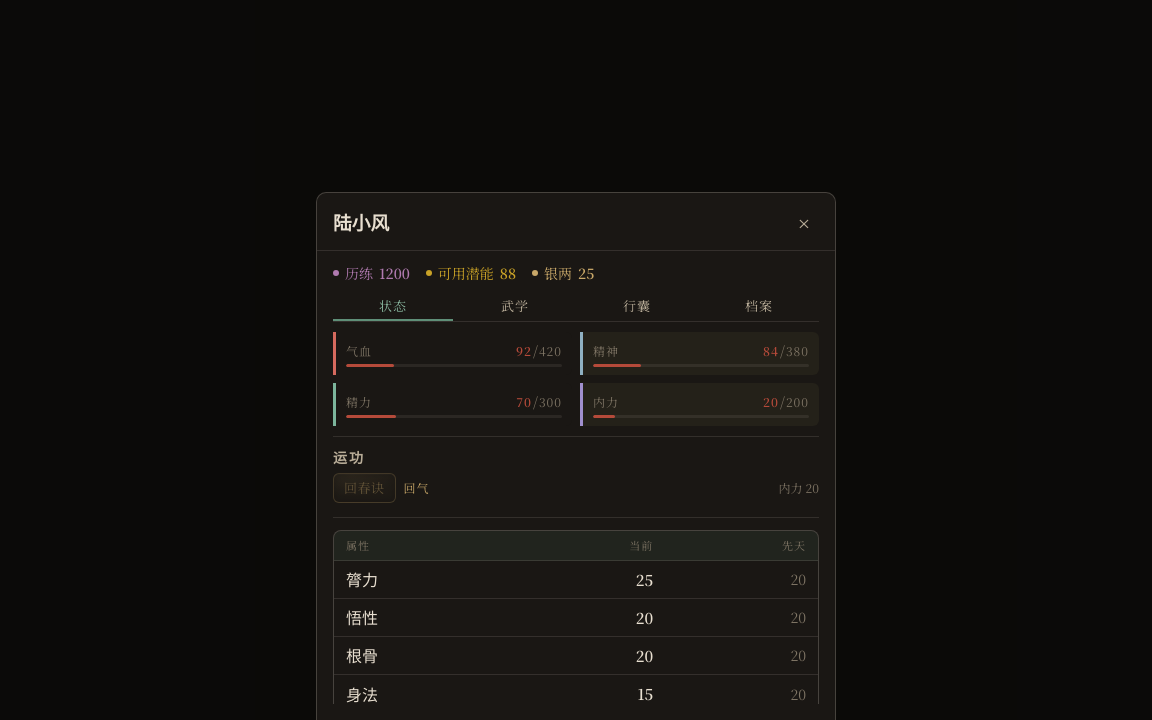
Test: CharacterSheet（角色面板） › 武学页：临敌有效等级 + 折叠不见演练点/招式清单
This screenshot has width=1152, height=720.
Click the tab "武学" at (515, 307), box x1=455 y1=293 x2=575 y2=321
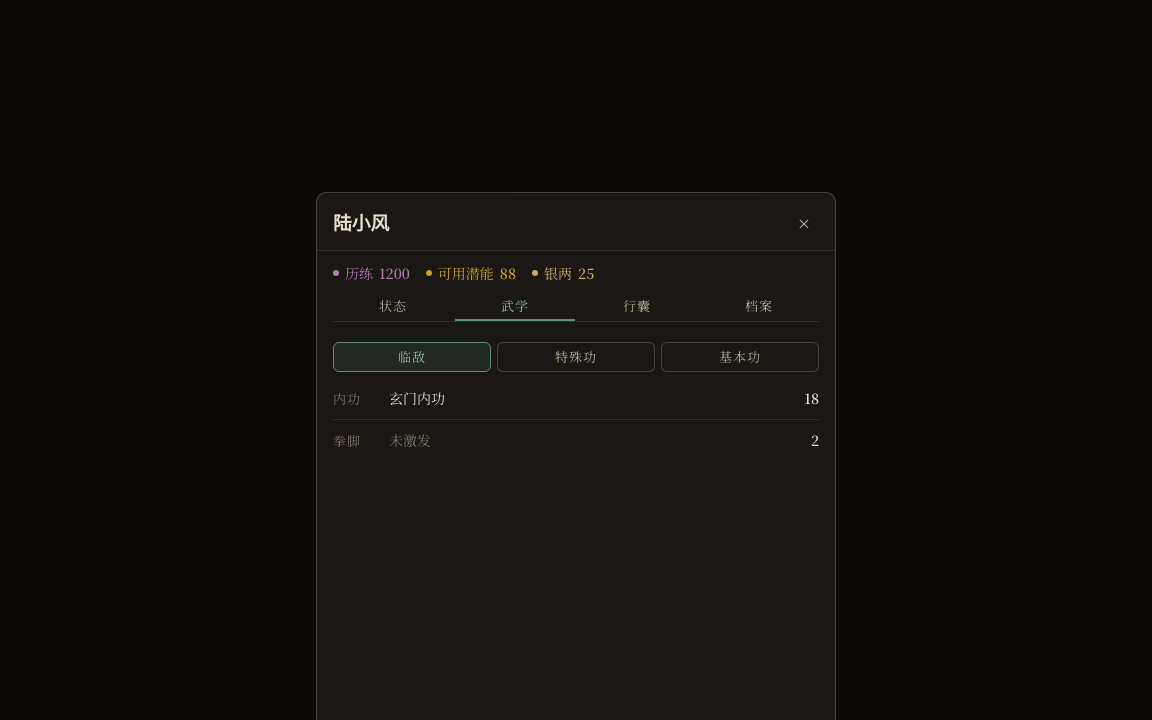
Expected: the element with class "char-skills-tabs" is shown, x1=333 y1=334 x2=819 y2=372
Expected: the element with test id "char-combat" is shown, x1=333 y1=382 x2=819 y2=472
Expected: the element with test id "combat-force" shows "内功", x1=333 y1=389 x2=361 y2=408
